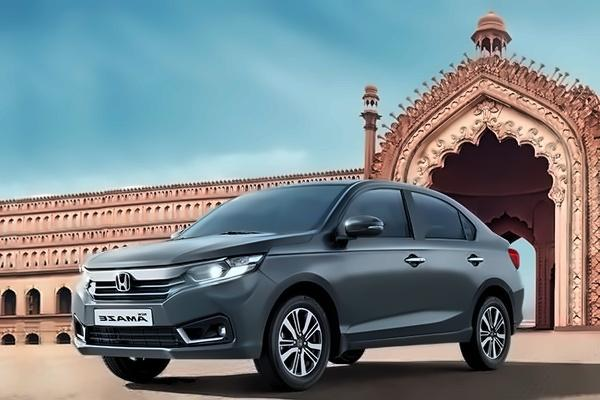Car hood: (83, 231, 314, 270)
Fender - -F-L-: (252, 234, 352, 361)
Fender - -R-L-: (463, 213, 521, 338)
Front bumper: (65, 272, 281, 363)
Headlight - -L-: (187, 253, 268, 285)
Headlight - -R-: (78, 270, 92, 290)
Passenger-s door - -F-L-: (334, 171, 430, 352)
Passenger-s door - -R-L-: (408, 169, 486, 350)
Rear light - -L-: (507, 247, 522, 271)
Side bumper - -L-: (330, 319, 478, 365)
Side mirror - -L-: (334, 214, 387, 250)
